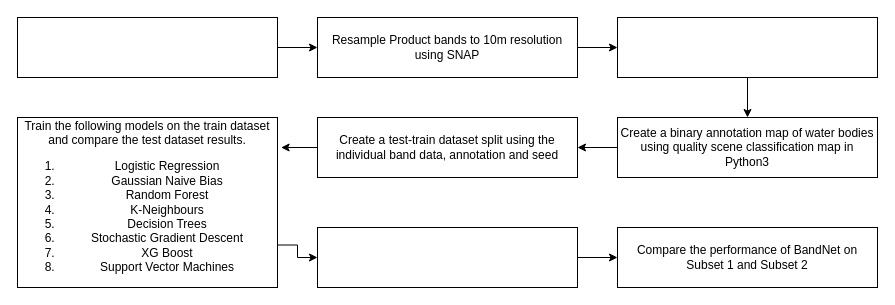
Some shapes in this 895 by 305 pixel diagram are drawn without their labels. Here are the shapes that lost their labels. From the top down, the centre of each, then its label:
[147,47]: Download Sentinel-2 L2A products from https://scihub.copernicus.eu/
[747,47]: Create subsets using SNAP
[447,257]: Use the best performing band to create and train BandNet
